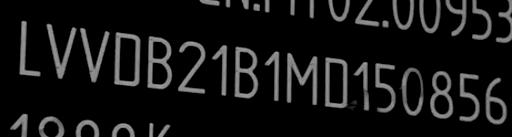letter: (280, 47, 322, 108), (176, 36, 210, 97), (229, 41, 263, 100), (44, 22, 78, 79), (78, 23, 110, 82), (112, 29, 142, 90), (320, 52, 350, 109), (14, 19, 42, 80), (144, 33, 172, 90), (372, 60, 400, 115), (425, 68, 453, 121), (454, 70, 482, 123), (348, 55, 372, 116), (483, 71, 509, 125), (400, 65, 426, 118), (262, 43, 284, 104), (208, 41, 230, 100)
